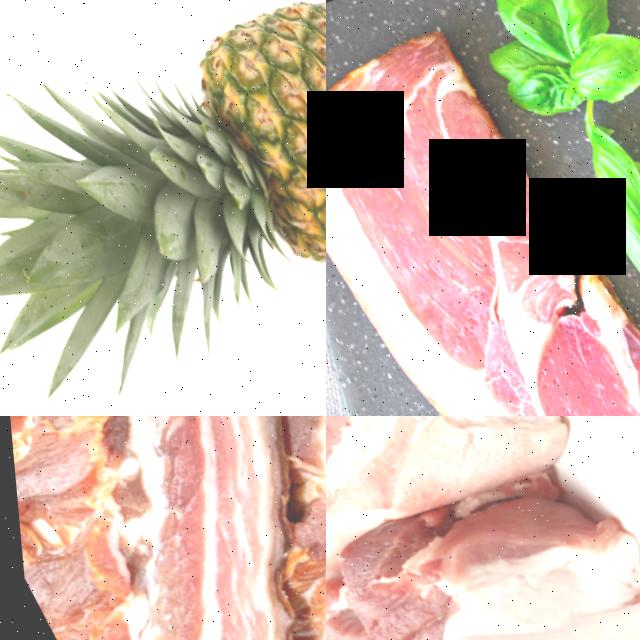pineapple: (78, 0, 326, 355)
pork belly: (326, 0, 640, 416), (0, 416, 326, 640), (326, 416, 640, 640), (326, 416, 591, 640), (162, 416, 326, 628), (140, 514, 326, 640), (326, 416, 515, 510)
